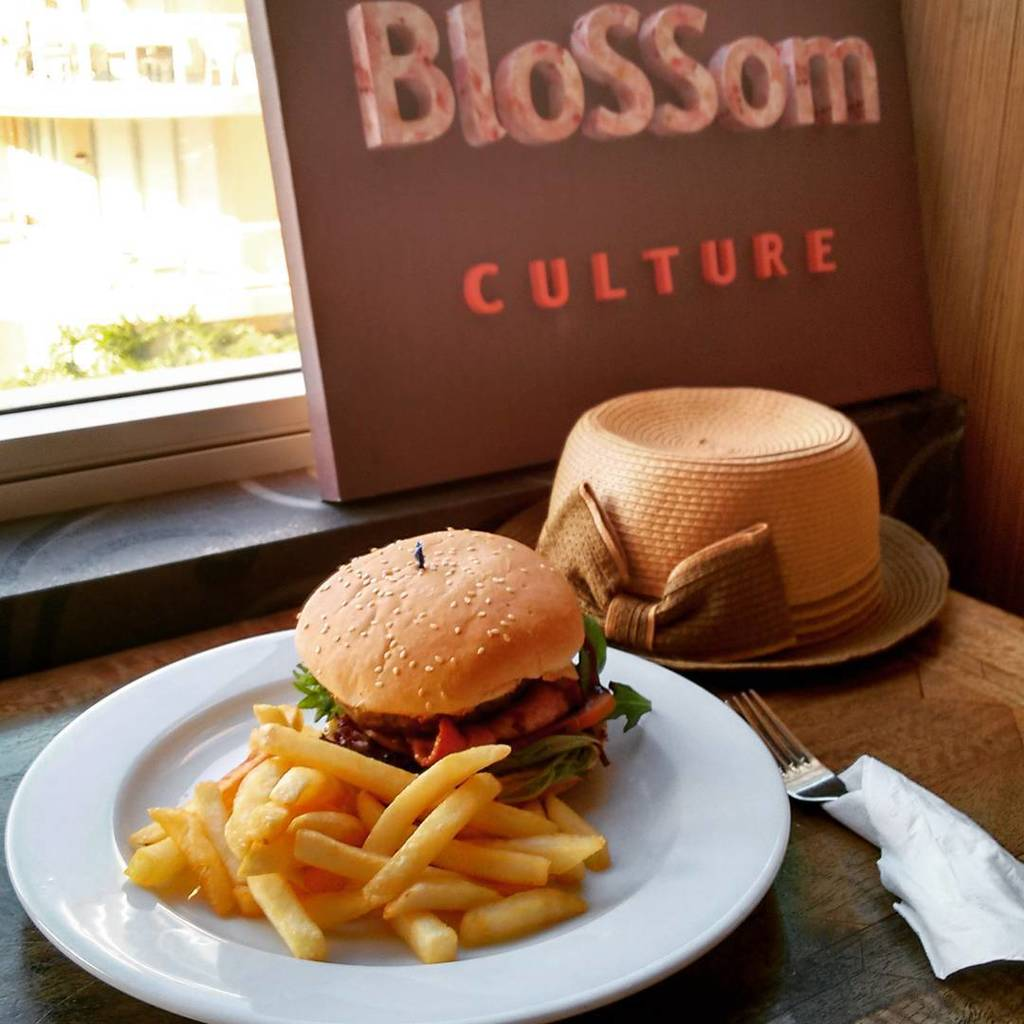French fries: (140, 743, 620, 957)
